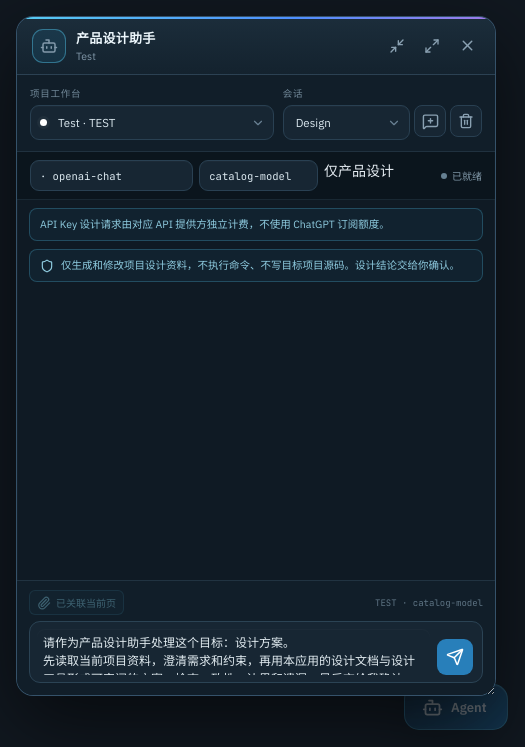
restores the actual session model after an unsuccessful model update
Step 1. Select "new-model" in the dropdown named "当前模型" → [259, 176], box left=199, top=160, right=318, bottom=191
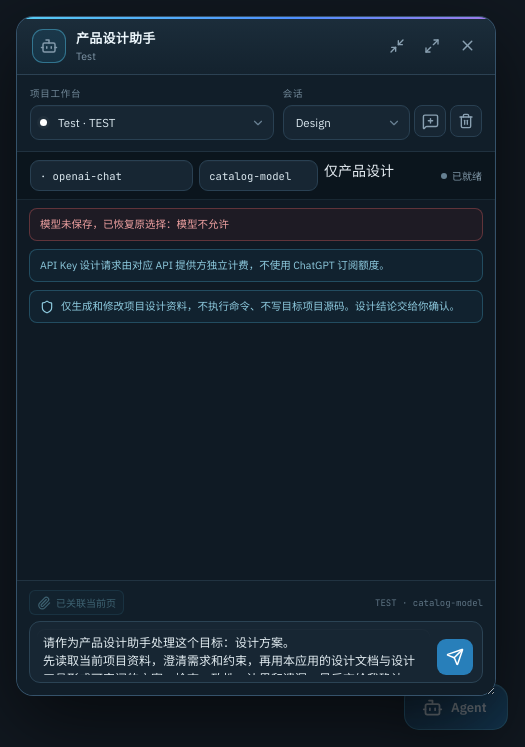
Now the text "模型未保存，已恢复原选择" is shown, box left=40, top=217, right=229, bottom=231
